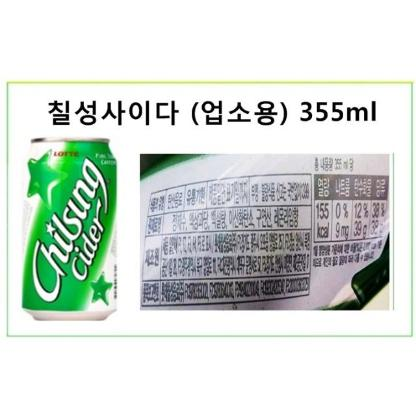Can: (20, 137, 118, 320)
